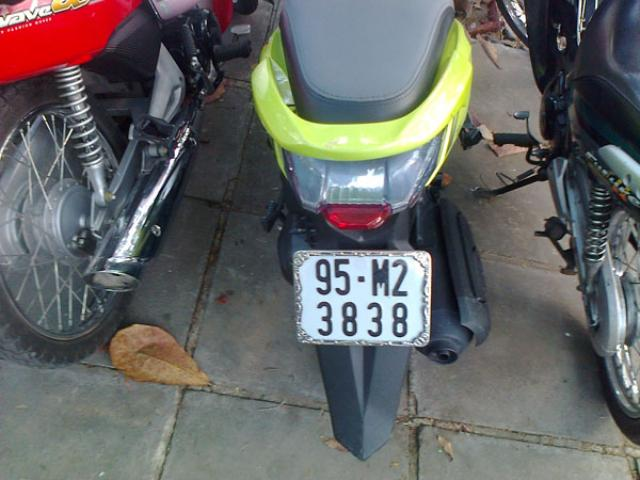plate: (295, 252, 429, 346)
